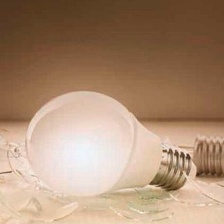light_bulb: (22, 85, 203, 201)
